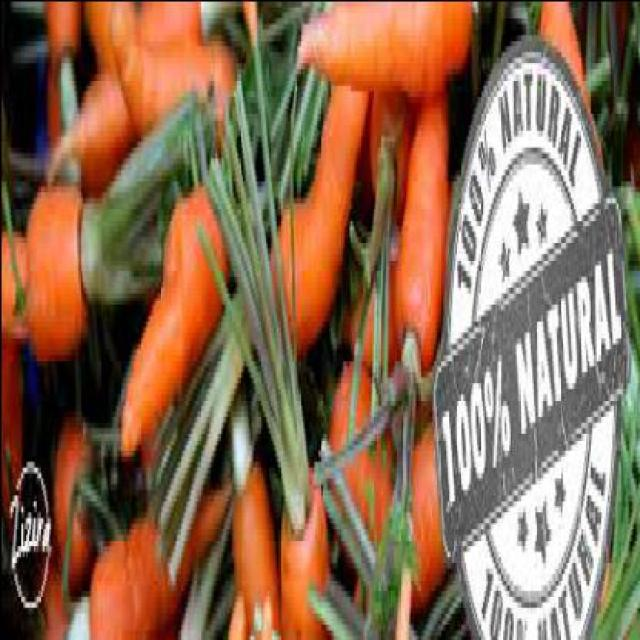BIODEGRADABLE: (195, 56, 307, 522), (116, 179, 229, 455), (274, 73, 368, 342), (81, 89, 199, 303), (86, 478, 232, 634), (306, 438, 422, 634), (366, 320, 420, 623), (291, 1, 471, 90), (107, 5, 236, 124), (309, 342, 416, 478), (393, 90, 444, 365), (46, 46, 131, 196), (80, 1, 200, 96), (26, 179, 85, 359), (228, 466, 281, 634), (402, 409, 446, 606), (276, 460, 324, 634), (583, 11, 639, 146), (618, 162, 638, 522), (51, 410, 92, 578), (596, 472, 638, 634), (535, 1, 591, 96), (366, 89, 412, 197), (2, 312, 20, 523), (57, 44, 81, 190), (417, 560, 463, 634), (34, 539, 68, 635), (2, 218, 26, 332), (44, 1, 78, 62), (45, 56, 60, 158), (62, 584, 88, 634), (225, 590, 244, 635)
